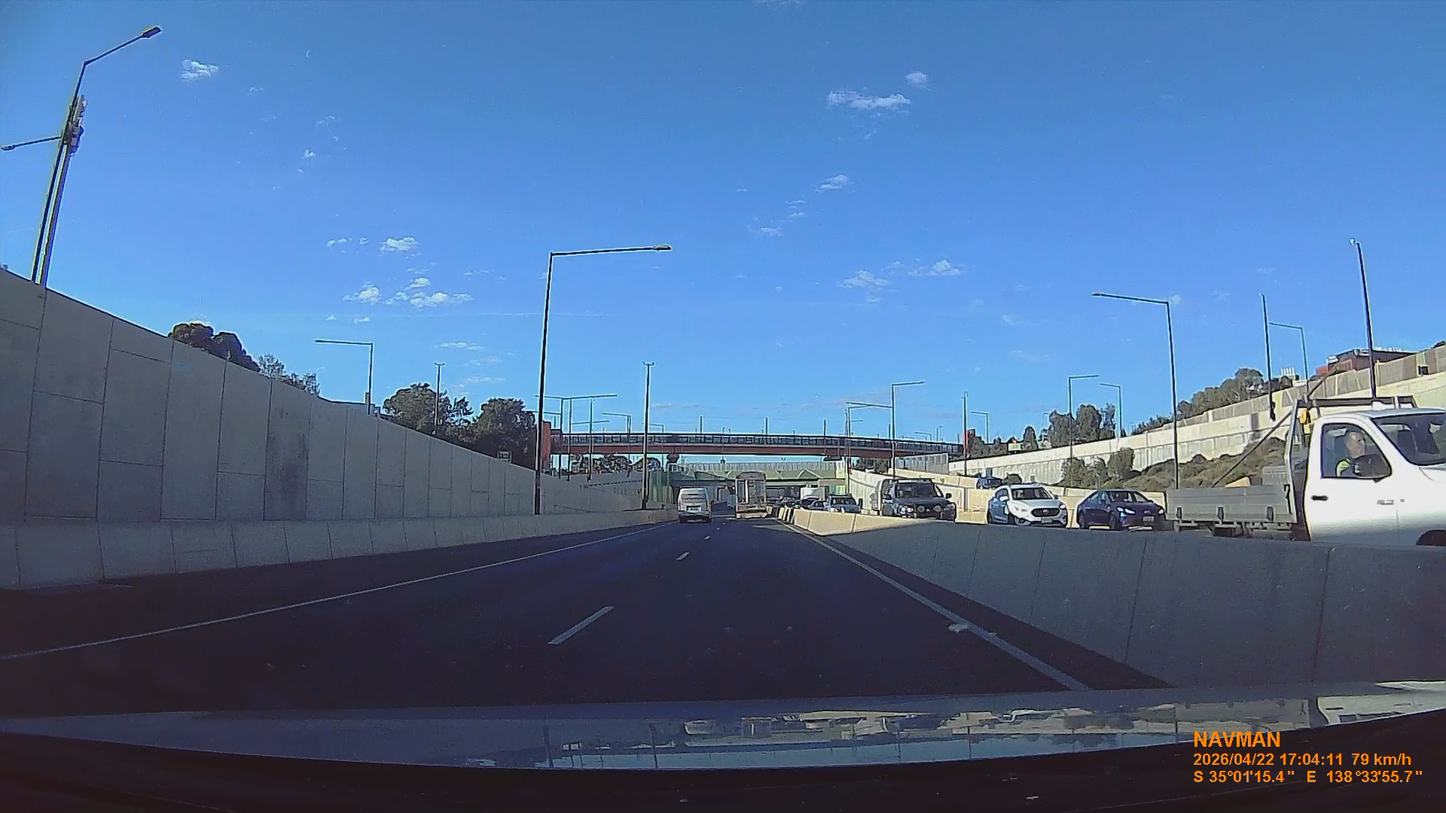road barriers: (827, 522, 1445, 687), (0, 512, 655, 587), (782, 508, 936, 536)
